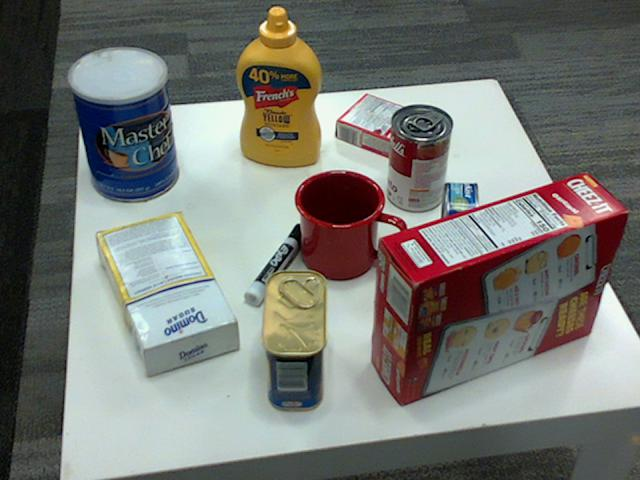cracker_box: (370, 171, 626, 403)
gelatin_box: (337, 93, 426, 157)
large_marker: (242, 225, 307, 310)
master_chef_can: (66, 47, 177, 202)
mug: (293, 167, 404, 277)
mustard_bottle: (235, 7, 321, 166)
potted_meat_can: (262, 270, 328, 411)
sugar_box: (94, 209, 237, 371)
tomato_soup_can: (385, 105, 451, 212)
tuna_fish_can: (438, 181, 478, 263)
